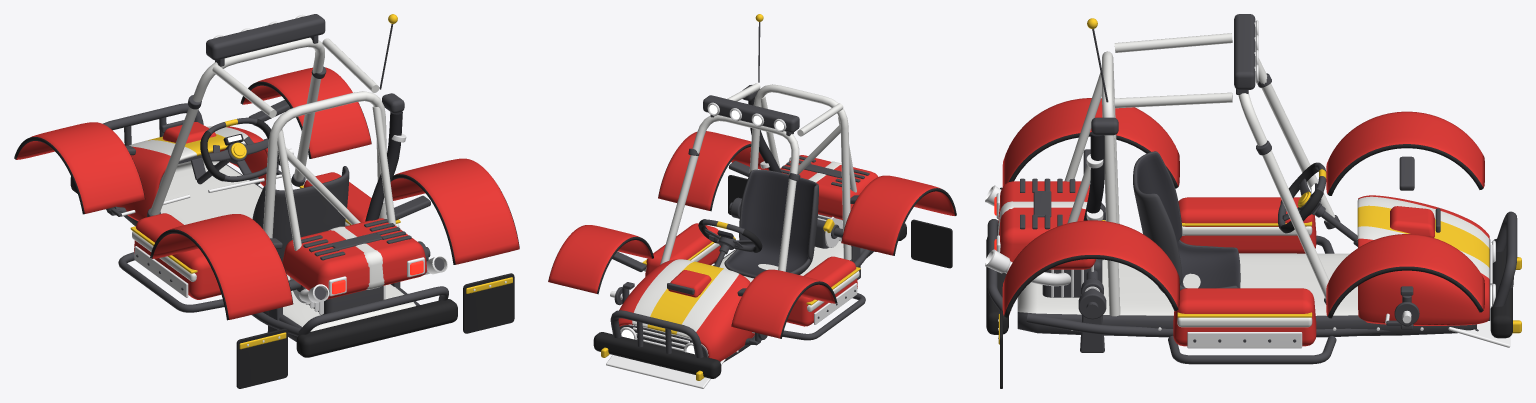
Rendered from body_brutus.glb.
The picture shows the model from 3 angles, left to right: view 1: azimuth 30°, elevation 25°; view 2: azimuth 150°, elevation 25°; view 3: azimuth 270°, elevation 25°; orthographic projection. The views are drawn at different scales.
Parts seen in each view (by area): view 1: body_brutus, steering_wheel; view 2: body_brutus, steering_wheel; view 3: body_brutus, steering_wheel.
Part boxes in pixels (bbox=[...]): body_brutus: bbox=[14, 14, 519, 388]; steering_wheel: bbox=[200, 117, 278, 182]; body_brutus: bbox=[548, 14, 956, 388]; steering_wheel: bbox=[698, 219, 762, 252]; body_brutus: bbox=[985, 14, 1521, 388]; steering_wheel: bbox=[1278, 162, 1326, 233].
Bounding box in the file's own units: 1.5 × 1.47 × 2.15.
